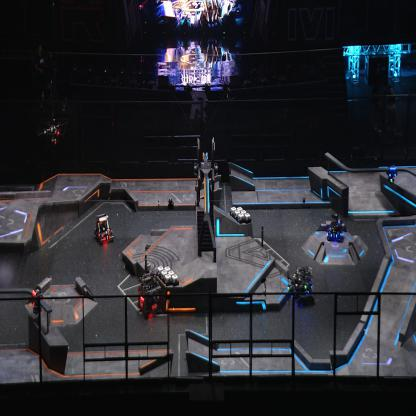car: (136, 272, 162, 318), (290, 266, 314, 305), (94, 212, 115, 244), (326, 213, 343, 241)
